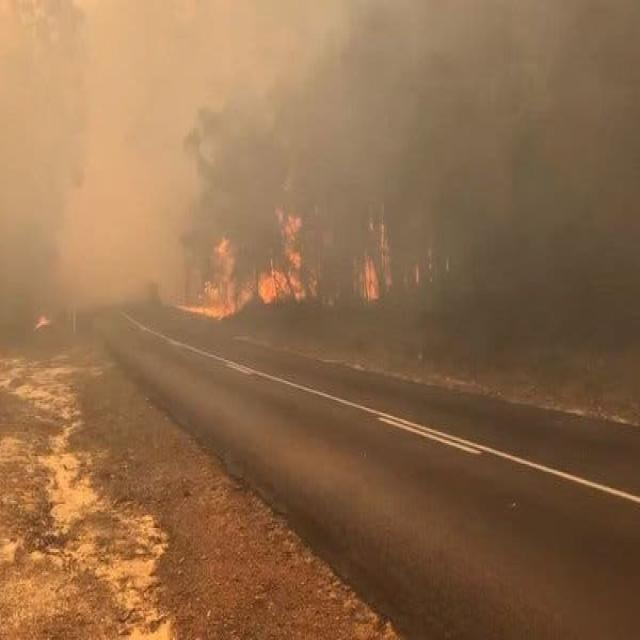Fire: (187, 210, 308, 336)
Smoke: (0, 0, 181, 309), (183, 0, 349, 208)
